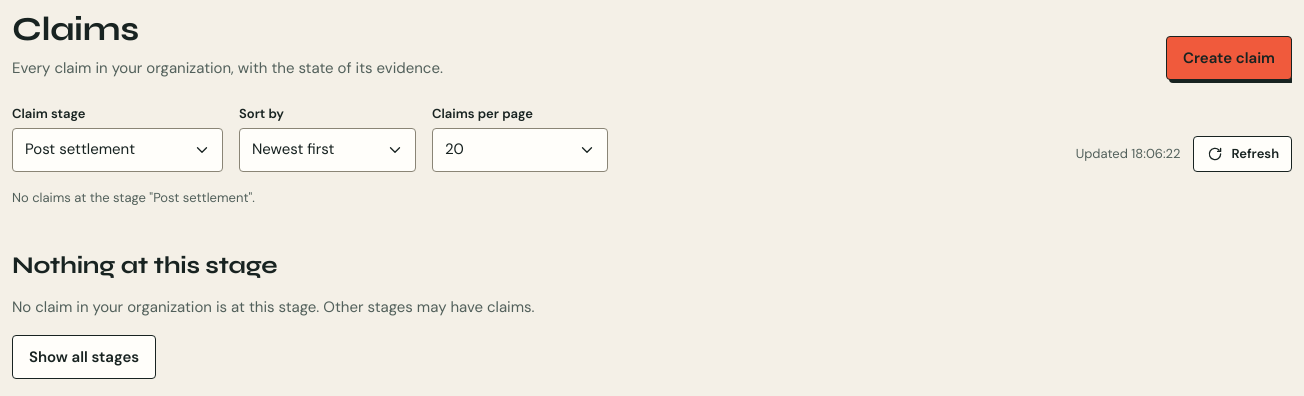
Test: ClaimsListPage: every state › tells an empty filter apart from an empty organization, and offers to clear it
Expected: the heading "Nothing at this stage" is shown, [12,252,277,280]
Expected: the text "No claims at the stage \"Post settlement\"." is shown, [12,189,255,206]
Click the button "Show all stages" at (84, 357), box [12,335,156,379]
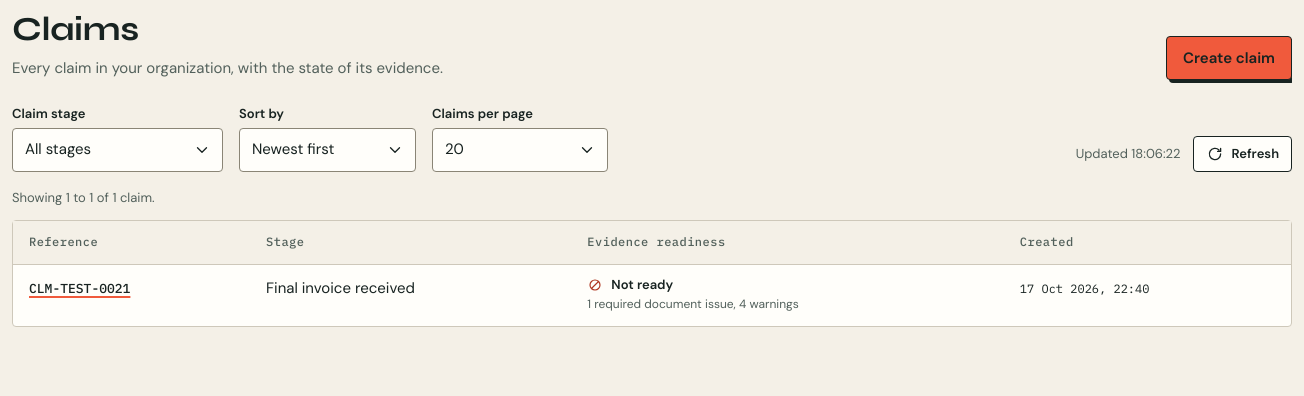
Expected: the table is shown, [13,221,1291,326]
